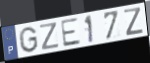1: (83, 14, 95, 44)
7: (103, 9, 120, 41)
E: (59, 16, 82, 48)
G: (18, 26, 40, 54)
Z: (38, 21, 60, 52), (123, 6, 144, 38)
